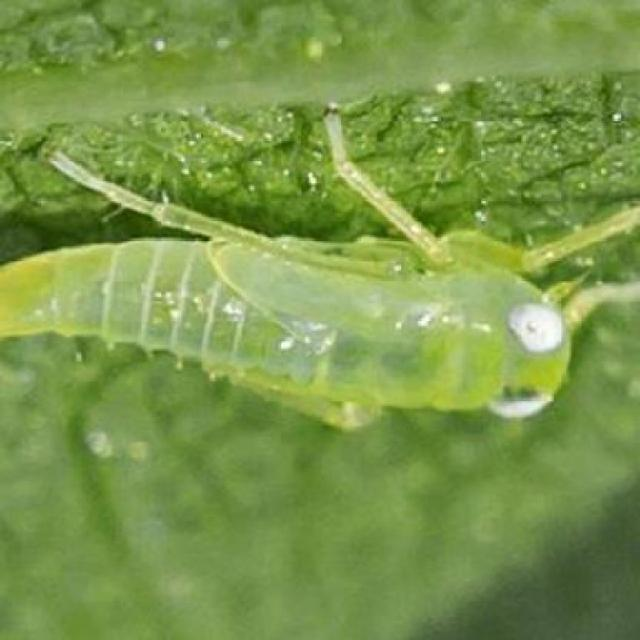green-leafhopper: (1, 203, 592, 425)
